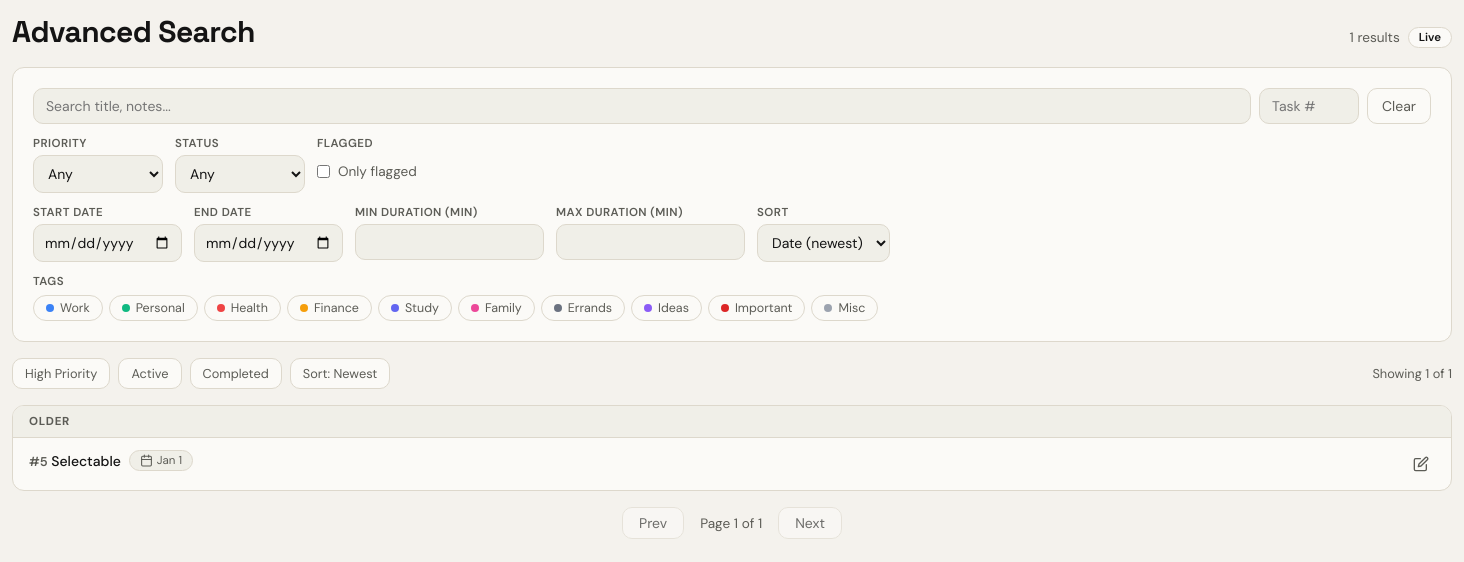
Test: AdvancedSearch (guest mode: pure client filtering) › Escape clears the selection
Click the text "#5 Selectable" at (75, 460), box [29, 452, 121, 470]
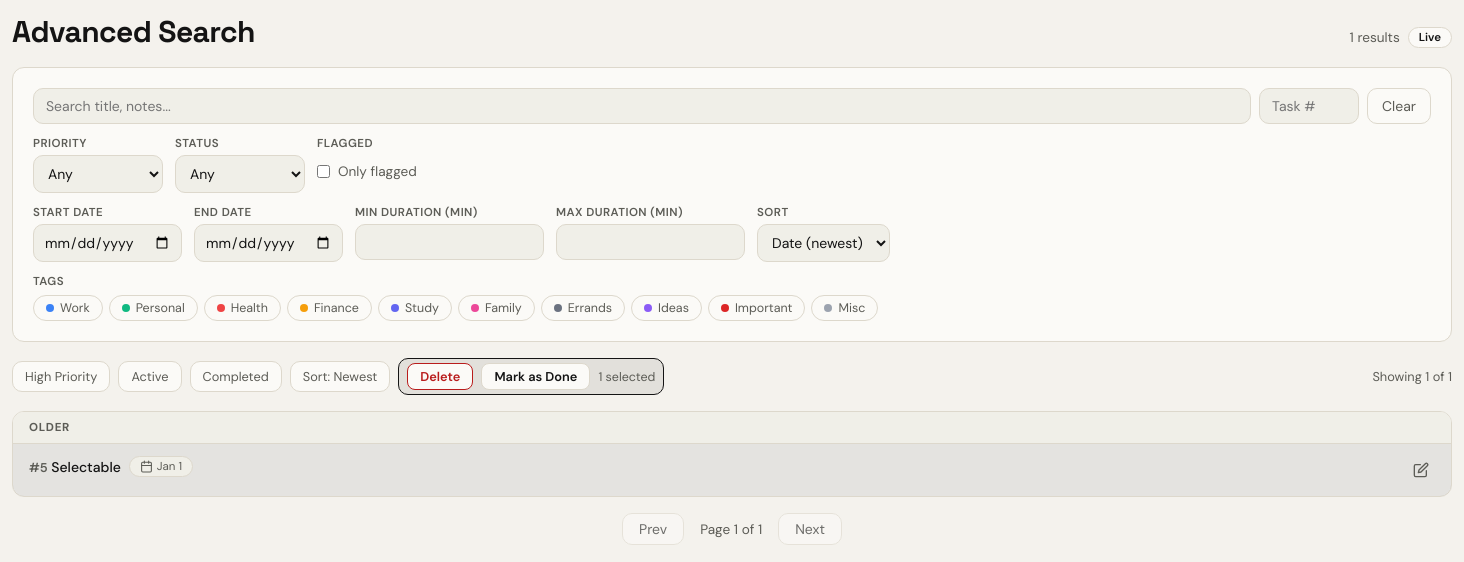
Result: the text "1 selected" is shown at [598, 368, 655, 384]
Press Escape
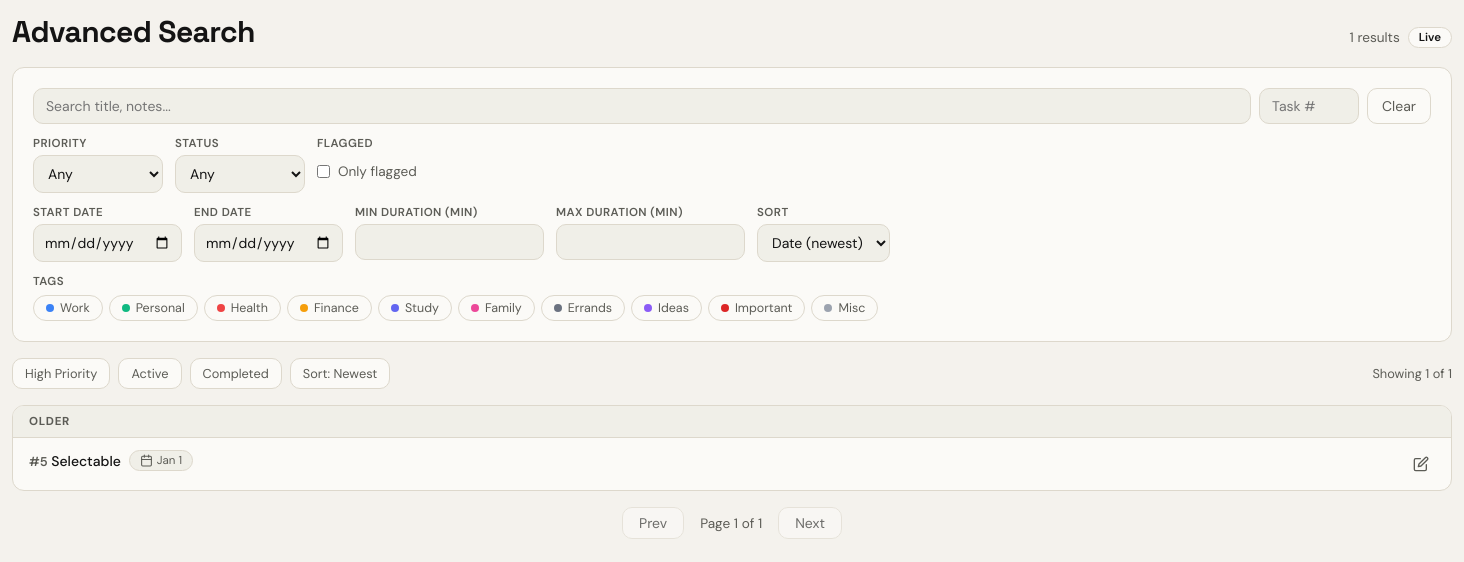
Result: the text "1 selected" is gone
